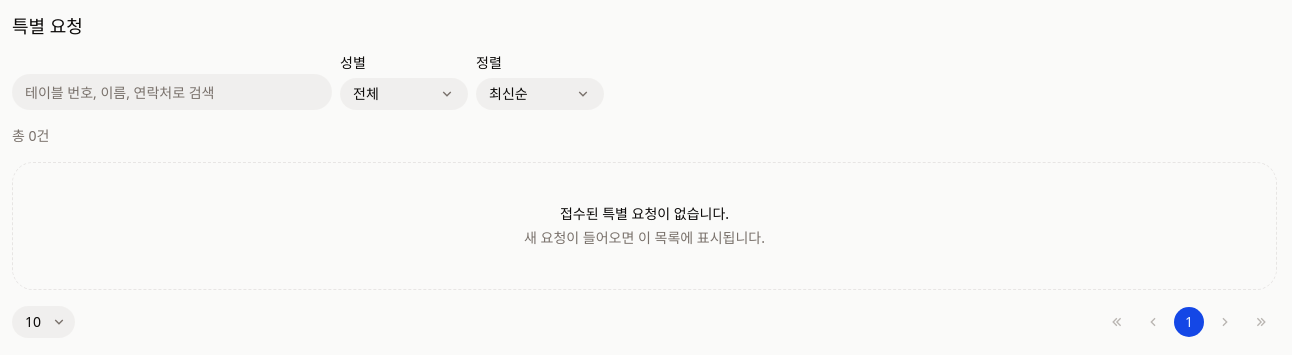
Test: SpecialRequestPage › shows a distinct 'no results' state when a filter/search yields nothing
Type "no-such-name" into the search field with placeholder "테이블 번호, 이름, 연락처로 검색".
click(172, 92); type("no-such-name")  # box [12,74,332,110]
Wait 300 ms
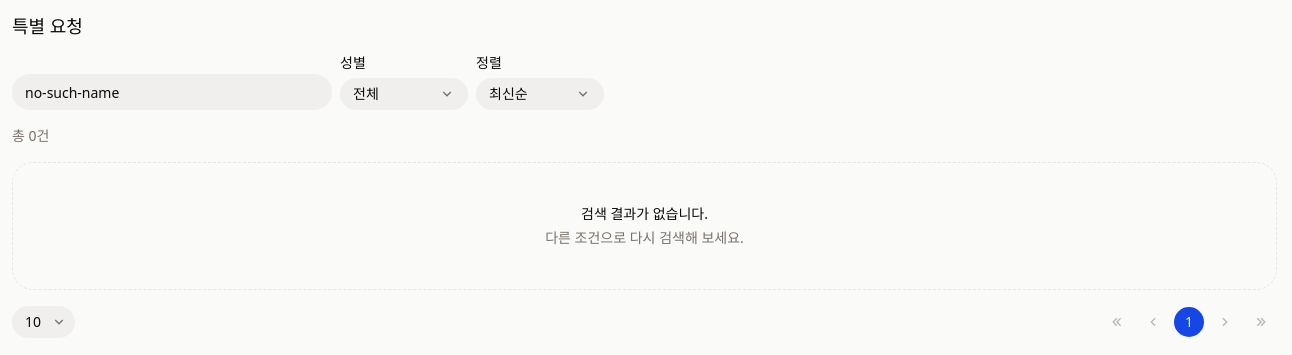
Result: the text "검색 결과가 없습니다." is shown at [581,204,708,224]
Result: the text "접수된 특별 요청이 없습니다." is gone
